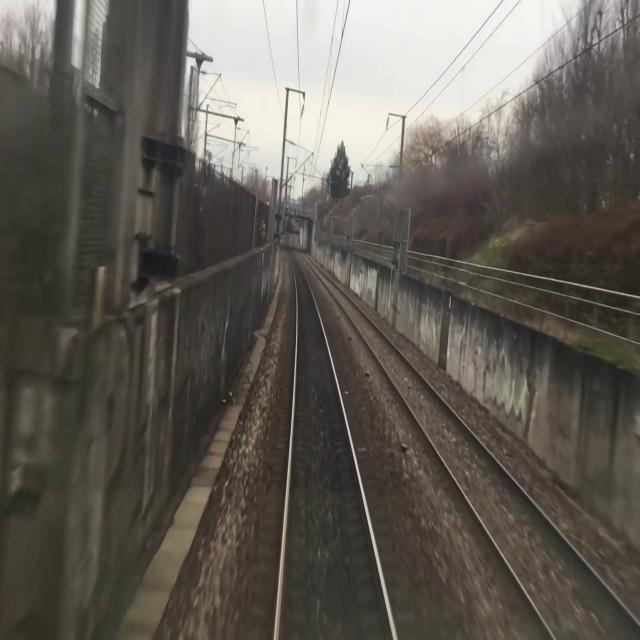rail-track: (301, 251, 640, 639), (278, 251, 392, 639)
